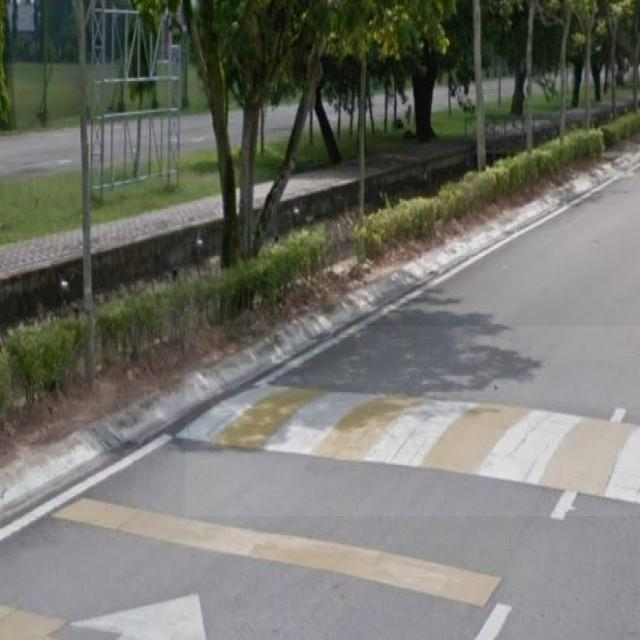speed-bump: (185, 326, 640, 516)
